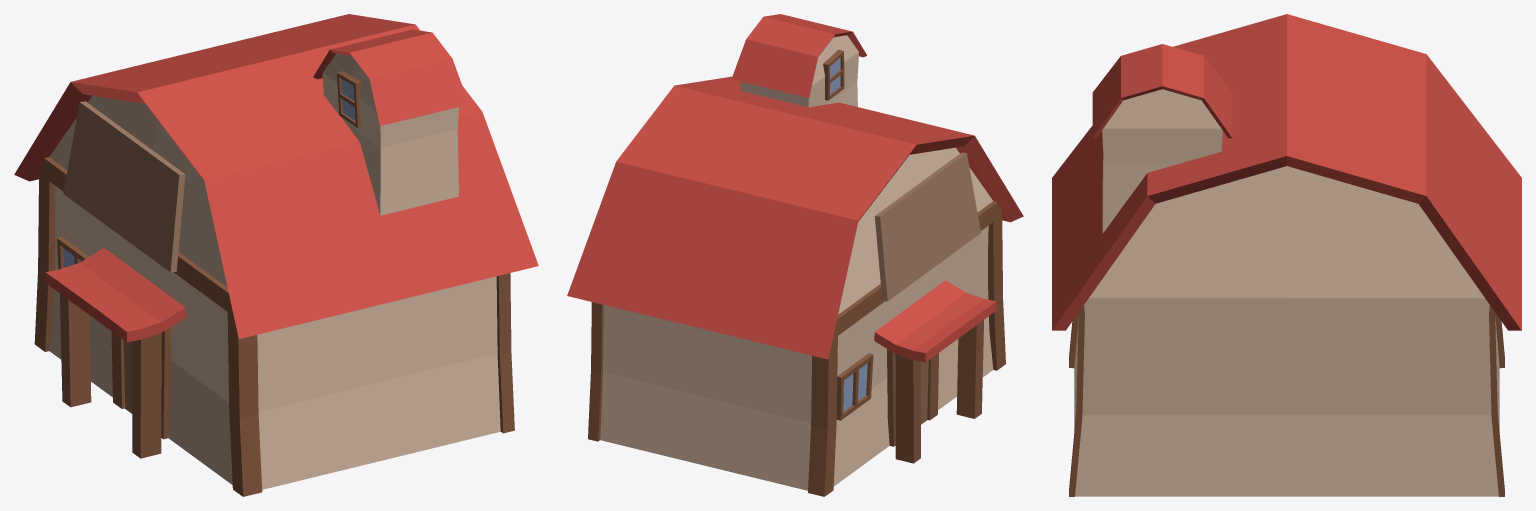
The model's file is house.fbx.
3 renders of one model, left to right at view 1: azimuth 30°, elevation 25°; view 2: azimuth 150°, elevation 25°; view 3: azimuth 270°, elevation 25°, orthographic. The views are drawn at different scales.
Parts seen in each view (by area): view 1: Cube.001; view 2: Cube.001; view 3: Cube.001.
Part boxes in pixels (<box>): Cube.001: <box>14,14,538,496</box>; Cube.001: <box>567,14,1023,496</box>; Cube.001: <box>1052,14,1521,496</box>.
Size of the model in its own units: 717 by 756 by 820.
